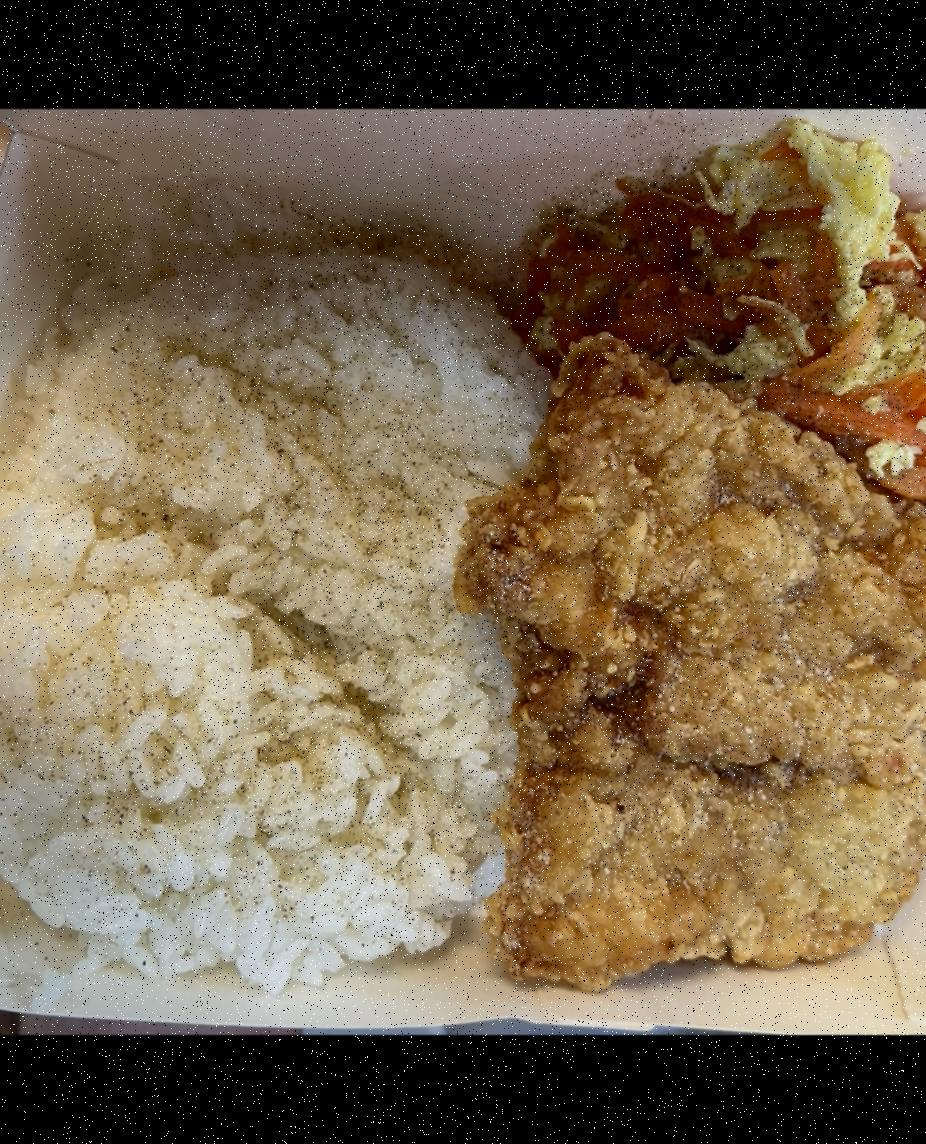box: (0, 122, 926, 1035)
kara chicken leg steak: (468, 337, 926, 993)
side dish: (525, 133, 926, 539)
white rice: (0, 199, 543, 979)
